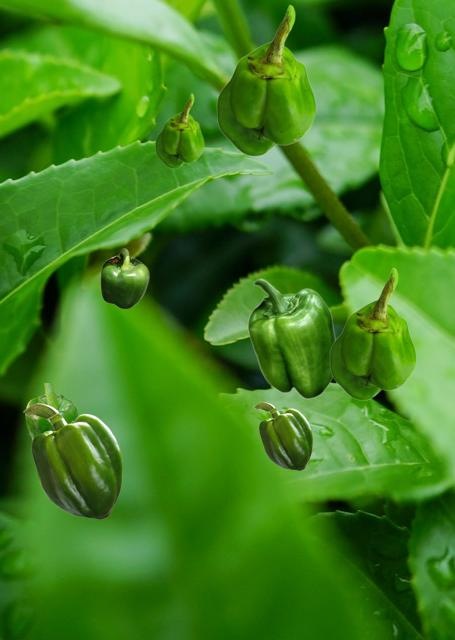bell_pepper: (216, 4, 315, 155), (329, 267, 415, 399), (23, 403, 121, 518), (247, 278, 335, 398), (25, 383, 78, 480), (254, 402, 311, 469), (155, 93, 203, 167), (100, 248, 148, 308)
